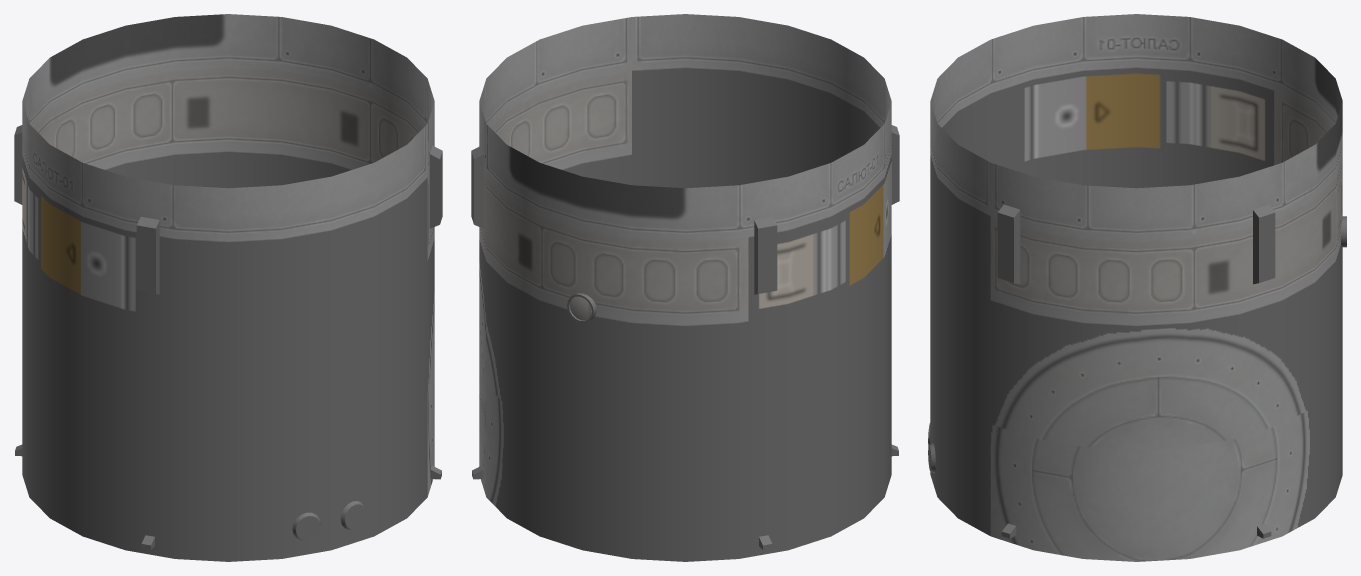
File: vega_crew_s2_1_1.obj
3 views of the same model, side by side, from view 1: azimuth 30°, elevation 25°; view 2: azimuth 150°, elevation 25°; view 3: azimuth 270°, elevation 25° (orthographic).
Visible parts, largest first — view 1: mesh1; view 2: mesh1; view 3: mesh1.
Part boxes in pixels (left/top/right/bottom): mesh1: left=14, top=14, right=442, bottom=561; mesh1: left=471, top=14, right=899, bottom=561; mesh1: left=928, top=14, right=1346, bottom=561.
Size of the model in its own units: 2.5 by 2.5 by 2.54.
